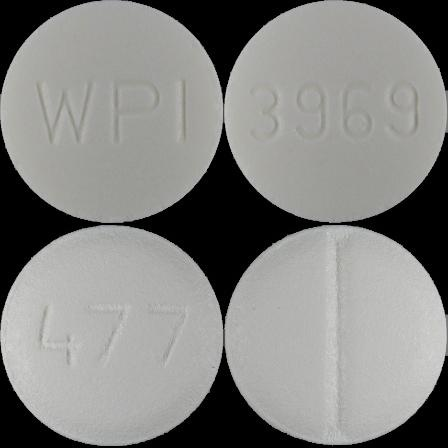68788-8930: (0, 0, 224, 224)
